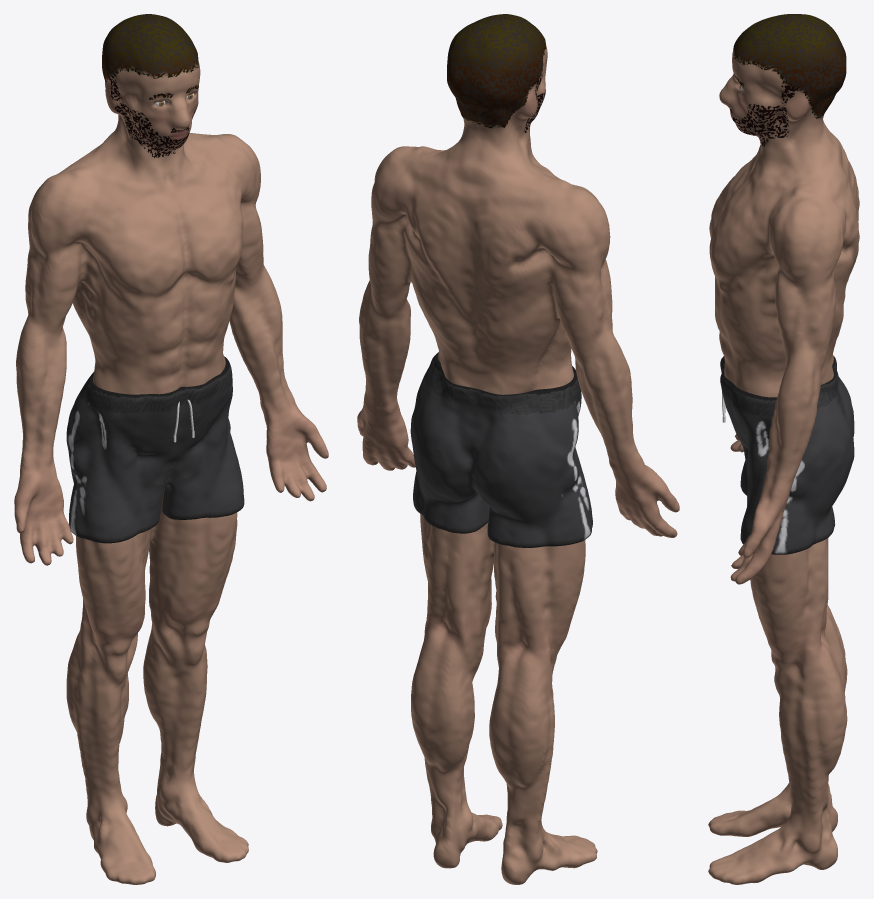
The model's file is skin.glb.
The picture shows the model from 3 angles, left to right: view 1: azimuth 30°, elevation 25°; view 2: azimuth 150°, elevation 25°; view 3: azimuth 270°, elevation 25°; orthographic projection. The views are drawn at different scales.
Visible parts, largest first — view 1: Skin; view 2: Skin; view 3: Skin.
Boxes of the visible parts, x1,y1,x2,y2 form: Skin: [14, 14, 328, 884]; Skin: [357, 14, 679, 884]; Skin: [708, 14, 859, 884].
Bounding box in the file's own units: 0.6768 × 1.72 × 0.2817.
